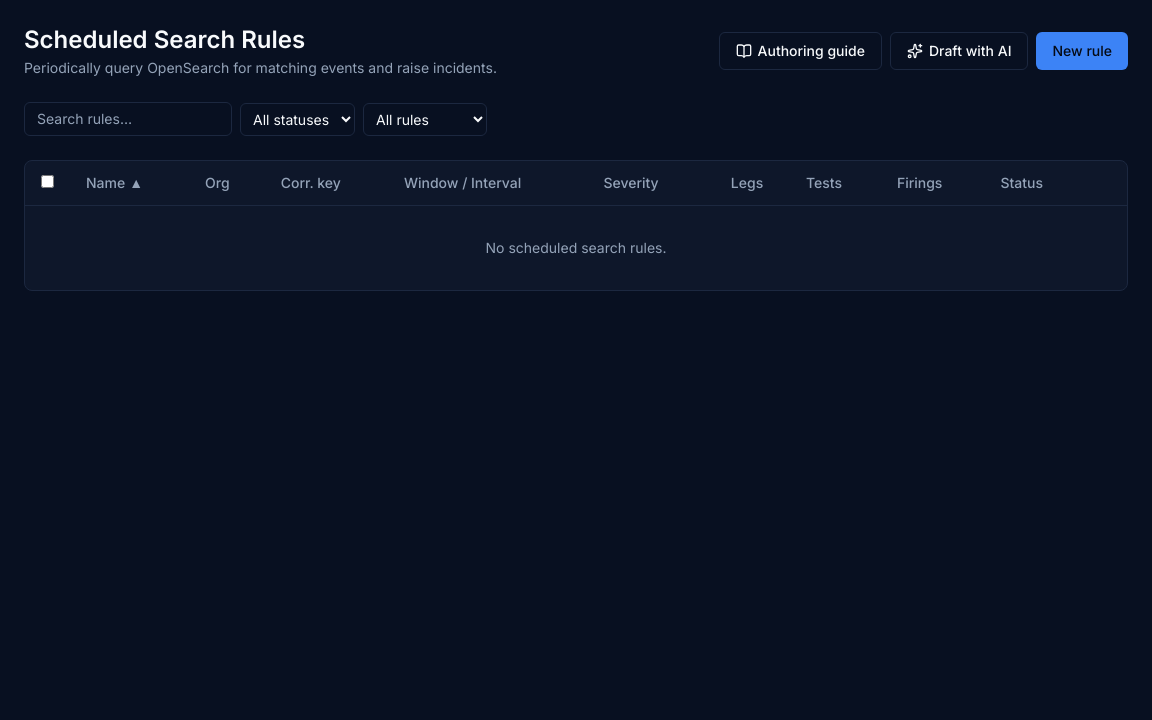
SearchRulesAdmin — Absence Firing (count operator) › warns that ≤ is only supported with the None correlation key
Click the button "New rule". click: (1082,51)
box: [1036,32,1128,70]
(page scrolled)
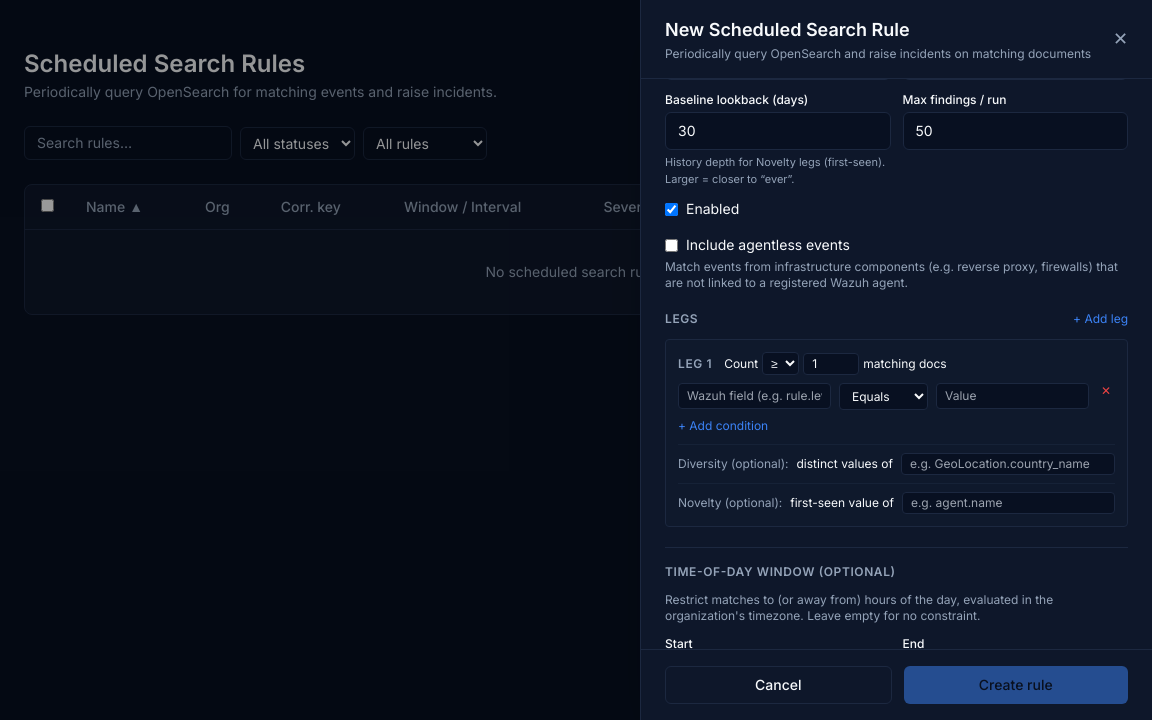
Expected: the dropdown named "Leg 1 count operator" is shown
Select "≤" in the dropdown named "Leg 1 count operator". click: (781,364)
box: [762,352,799,375]
(page scrolled)
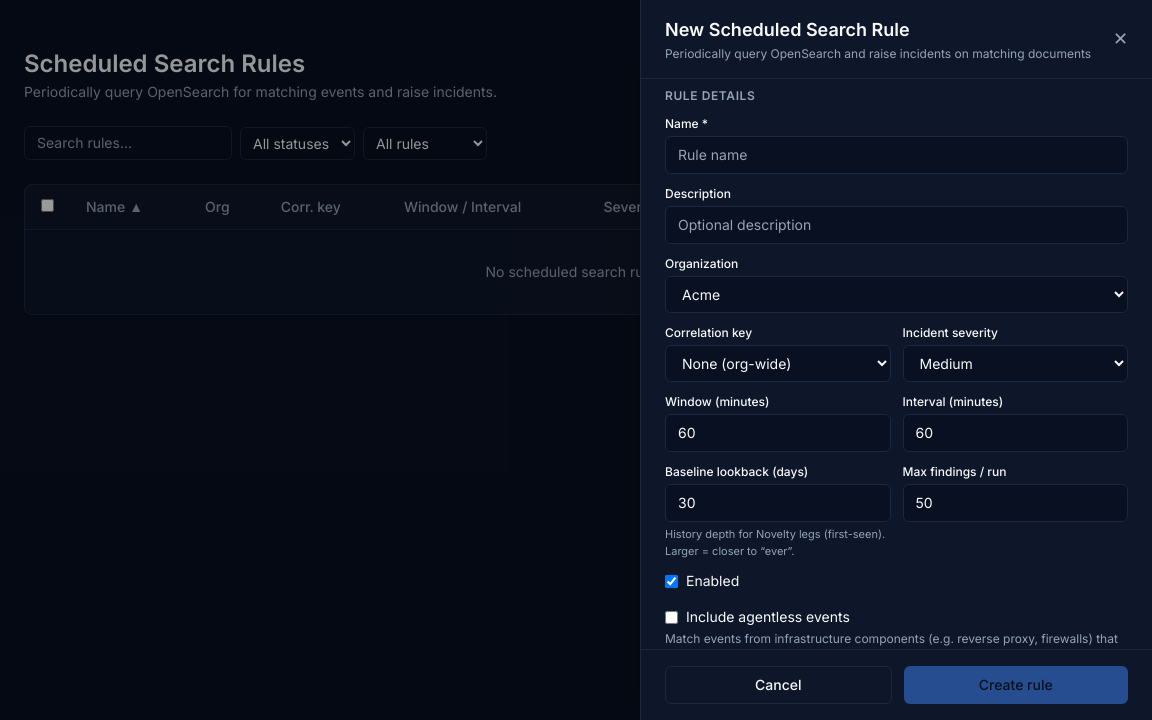
Expected: the text "only supported when the correlation key is" is not shown
Select "Username (user.name)" in the dropdown named "Correlation key". click: (778,364)
box: [665,345,890,382]
(page scrolled)
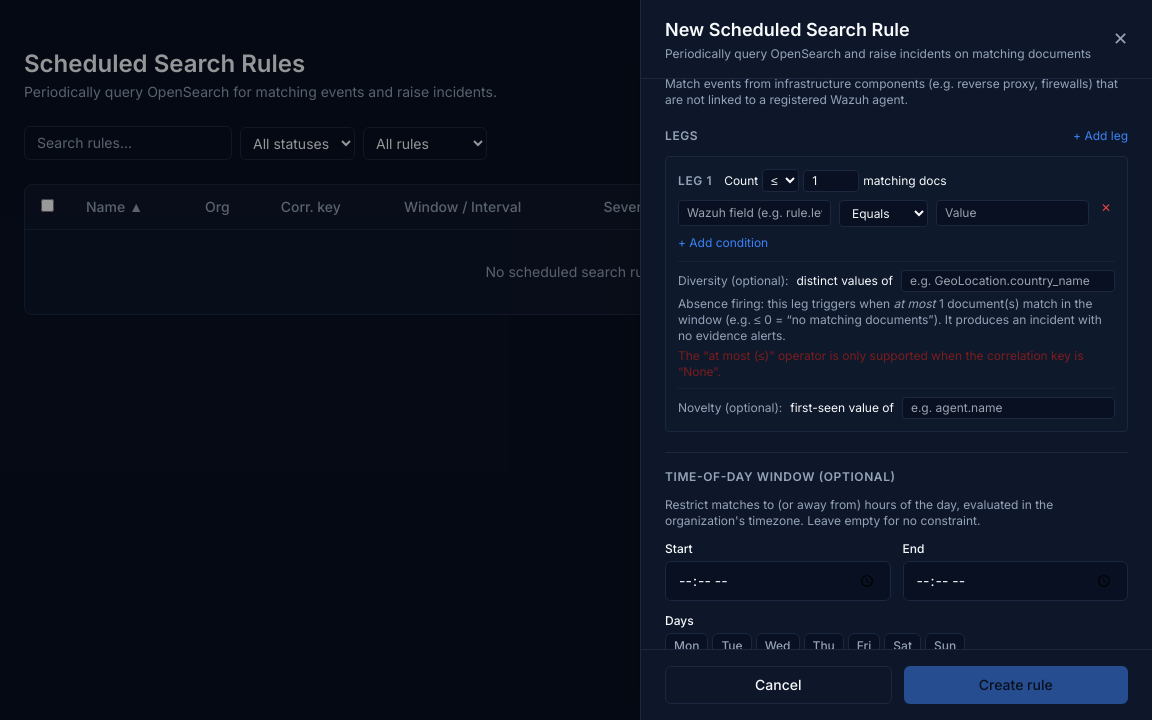
Expected: the text "only supported when the correlation key is" is shown, [678,348,1084,379]
